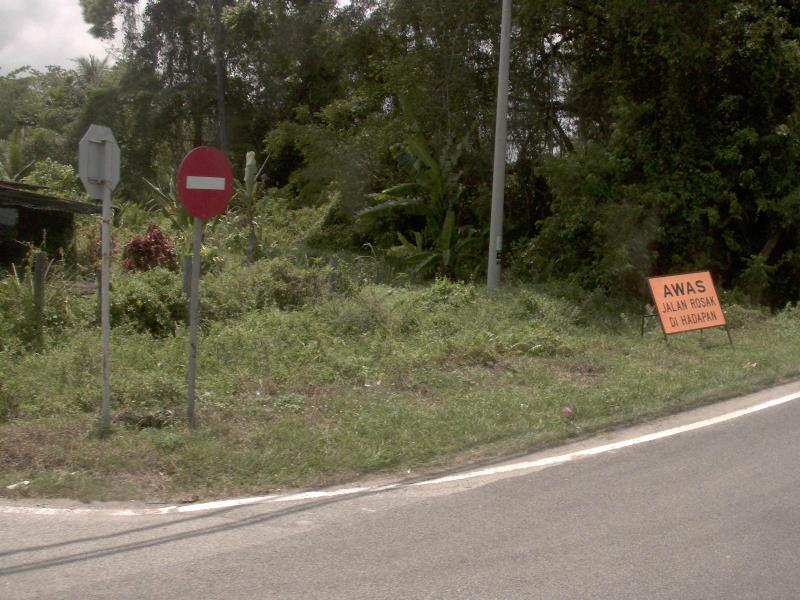ads_sign: (637, 260, 738, 345)
traffic_sign: (171, 133, 243, 226)
